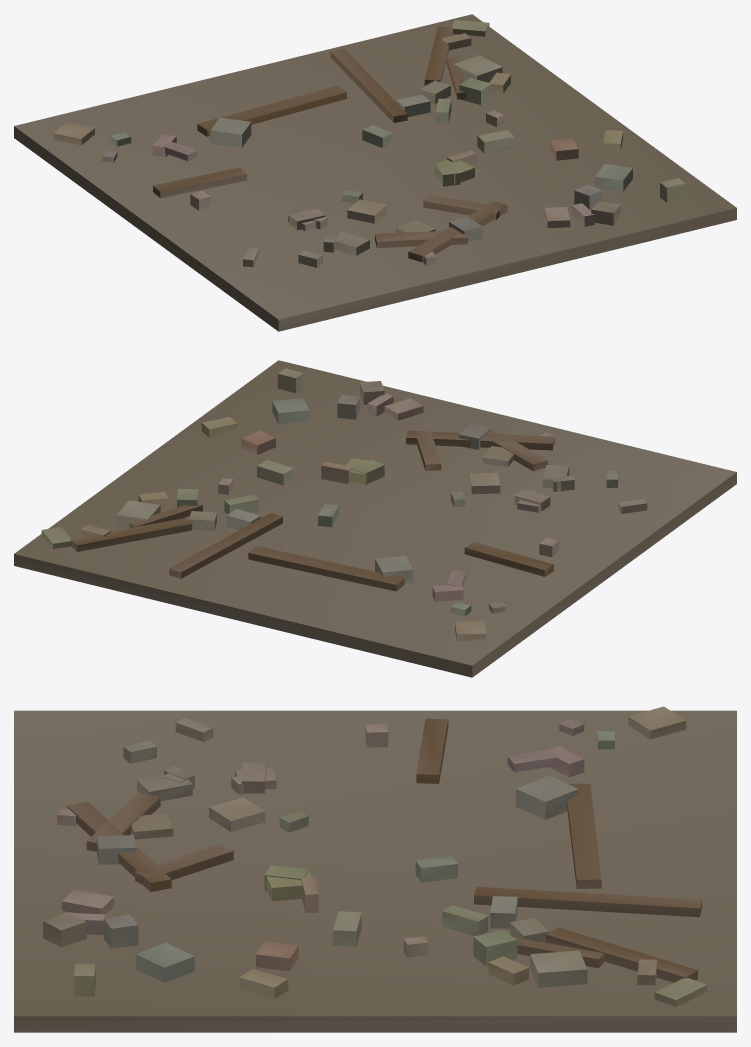
The model's file is env-dirt-floor-a.glb.
3 views of the same model, one above another, from view 1: azimuth 30°, elevation 25°; view 2: azimuth 150°, elevation 25°; view 3: azimuth 270°, elevation 25° (orthographic). The views are drawn at different scales.
Visible parts, largest first — view 1: Damp Forest Soil A; view 2: Damp Forest Soil A; view 3: Damp Forest Soil A.
Boxes of the visible parts, left/top/right/bottom form: Damp Forest Soil A: left=14, top=14, right=736, bottom=331; Damp Forest Soil A: left=14, top=360, right=736, bottom=677; Damp Forest Soil A: left=14, top=706, right=736, bottom=1032.
Size of the model in its own units: 4 by 0.2308 by 4.
